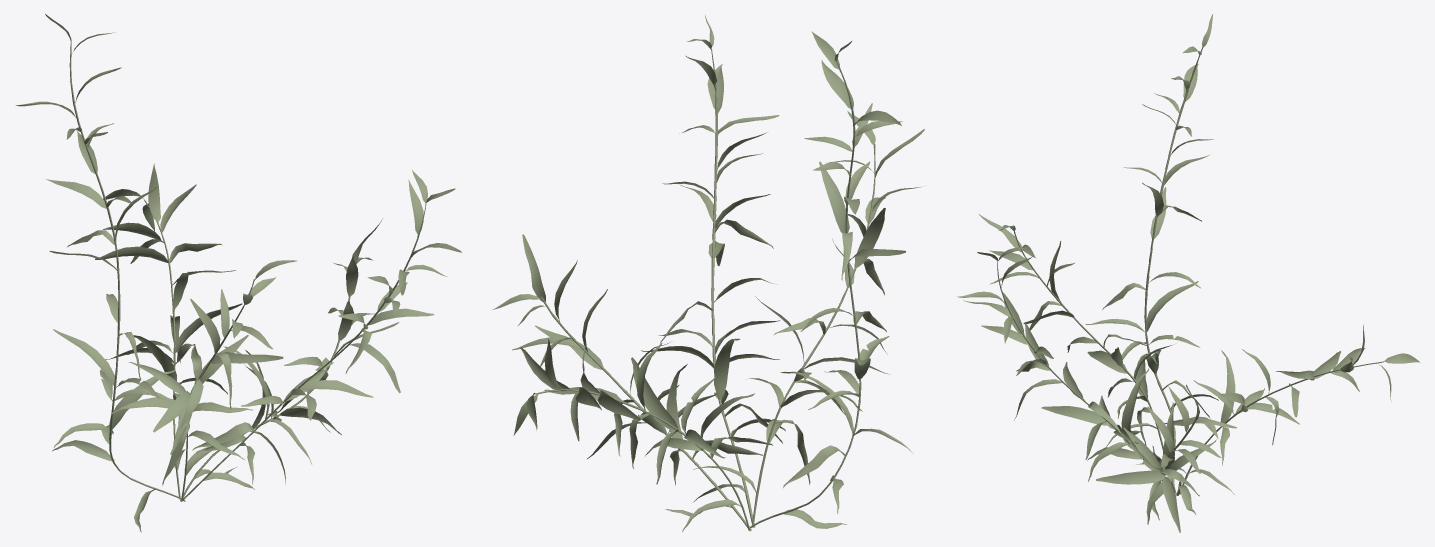
File: shrub-lod1.glb
3 views of the same model, side by side, from view 1: azimuth 30°, elevation 25°; view 2: azimuth 150°, elevation 25°; view 3: azimuth 270°, elevation 25° (orthographic). The views are drawn at different scales.
Parts seen in each view (by area): view 1: shrub_02_a; view 2: shrub_02_a; view 3: shrub_02_a.
Boxes of the visible parts, x1,y1,x2,y2 form: shrub_02_a: (15,14,461,532); shrub_02_a: (492,15,924,531); shrub_02_a: (956,14,1419,532).
Bounding box in the file's own units: 1.31 × 1.69 × 1.64.
